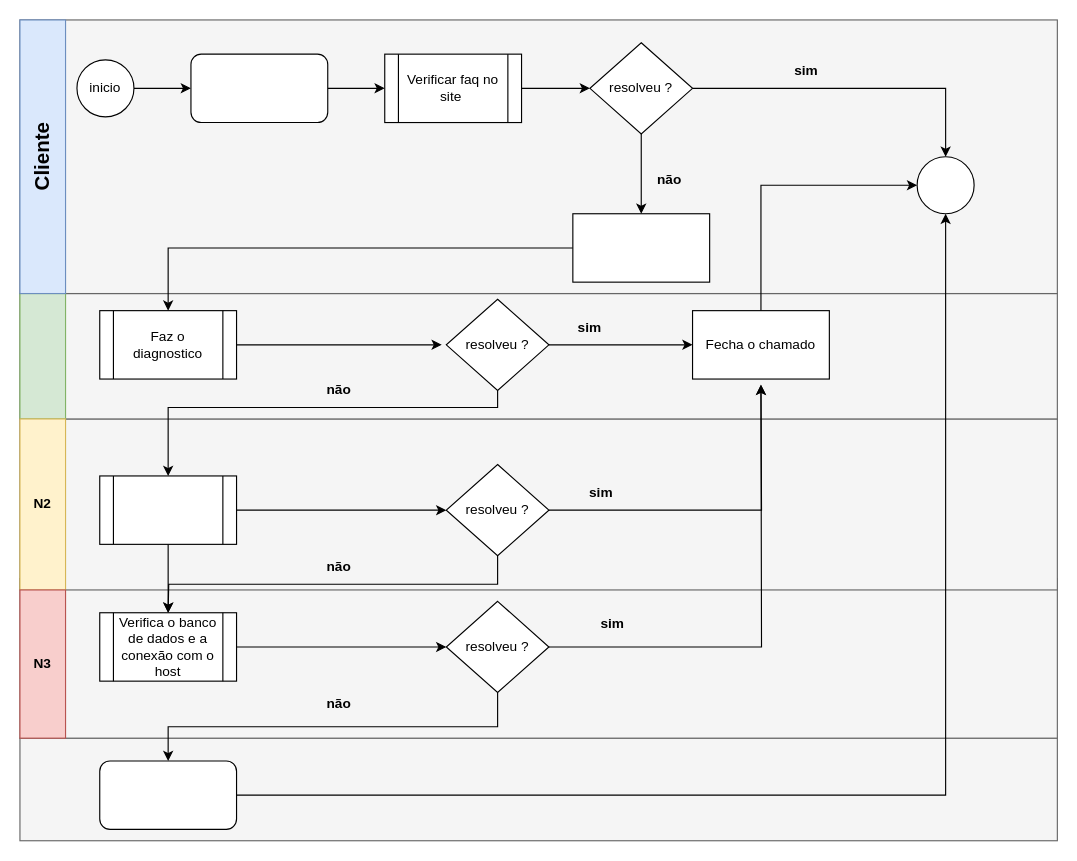
Some shapes in this 1077 by 861 pixel diagram are drawn without their labels. The centre of each missing label's shape, as x and y in pixels:
"Cliente abre o chamado" goes at pixel 641 247.
"fim" goes at pixel 945 185.
"Instruir o técnico para resolver o problema presencial" goes at pixel 168 794.
"N1" goes at pixel 42 355.
"Usuário tem um incidente" goes at pixel 259 88.
"Verifica as conexões internas" goes at pixel 168 509.
